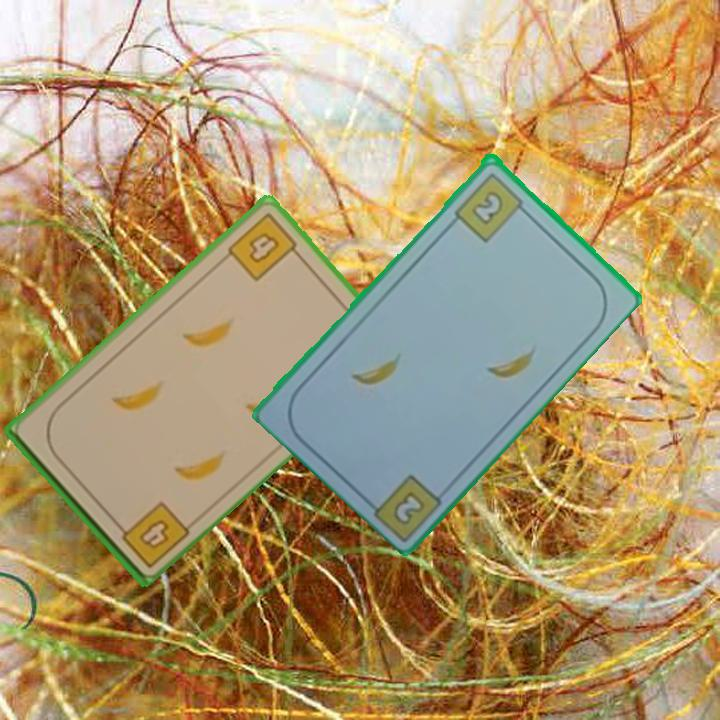2b: (451, 168, 531, 245), (392, 490, 425, 525)
4b: (223, 208, 305, 285), (110, 497, 192, 571)
